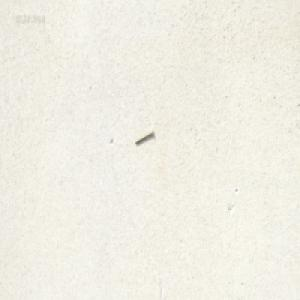Bolt: (134, 129, 153, 145)
